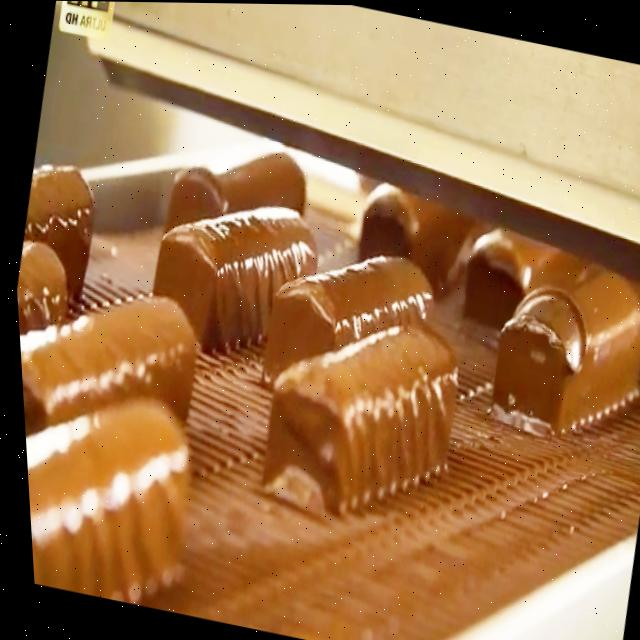Choco: (240, 289, 475, 538), (17, 369, 211, 608), (12, 260, 211, 479), (239, 223, 447, 422), (135, 176, 331, 367), (470, 250, 640, 459), (149, 129, 316, 262), (328, 174, 480, 308), (7, 152, 109, 309), (443, 229, 572, 347), (11, 232, 82, 340)
